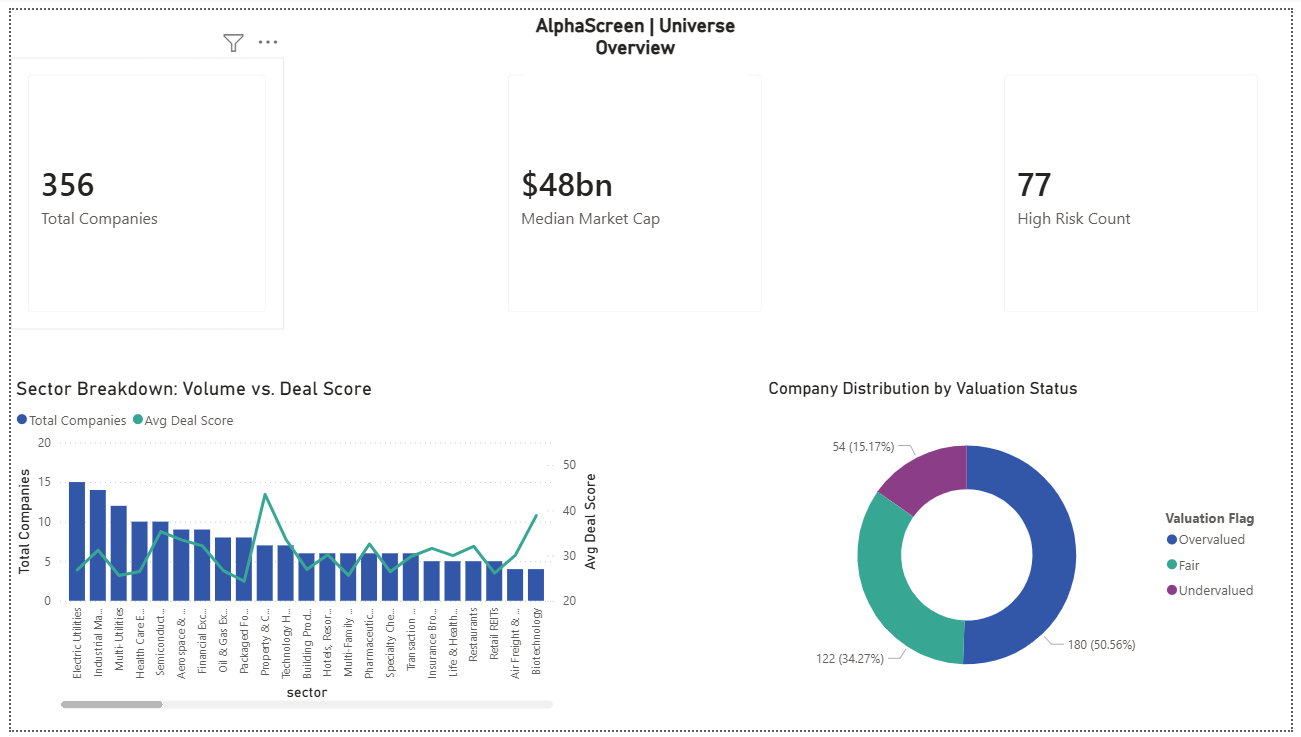

The page's visual inventory and layout, read from the dashboard file:
{"tool":"powerbi","page":{"name":"Universe Overview","canvas":[1280,720],"ordinal":0},"visuals":[{"type":"cardVisual","fields":{"Data":["companies.Total Companies"]},"box":[0,48,272,272],"z":0},{"type":"cardVisual","fields":{"Data":["companies.Median Market Cap"]},"box":[480,48,288,272],"z":1000},{"type":"cardVisual","fields":{"Data":["companies.High Risk Count"]},"box":[976,48,288,272],"z":2000},{"type":"lineClusteredColumnComboChart","title":"Sector Breakdown: Volume vs. Deal Score","fields":{"Y":["companies.Total Companies"],"Category":["companies.sector"],"Y2":["companies.Avg Deal Score"]},"box":[0,368,592,336],"z":3000},{"type":"donutChart","title":"Company Distribution by Valuation Status","fields":{"Category":["companies.Valuation Flag"],"Y":["companies.Total Companies"]},"box":[752,368,512,336],"z":4000},{"type":"textbox","box":[512,0,224,80],"z":5000}]}

Visuals, with their boxes in screenshot pixels (x1, y1, x2, y2), scaled from the page's 1280x720 canvas onto the 1301x737 screenshot:
cardVisual - companies.Total Companies: bbox=[0, 49, 276, 328]
cardVisual - companies.Median Market Cap: bbox=[488, 49, 781, 328]
cardVisual - companies.High Risk Count: bbox=[992, 49, 1285, 328]
"Sector Breakdown: Volume vs. Deal Score" lineClusteredColumnComboChart: bbox=[0, 377, 602, 721]
"Company Distribution by Valuation Status" donutChart: bbox=[764, 377, 1285, 721]
textbox: bbox=[520, 0, 748, 82]
